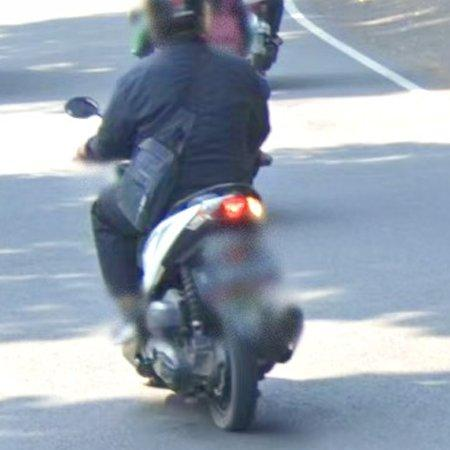motorcycles: (62, 95, 306, 432)
